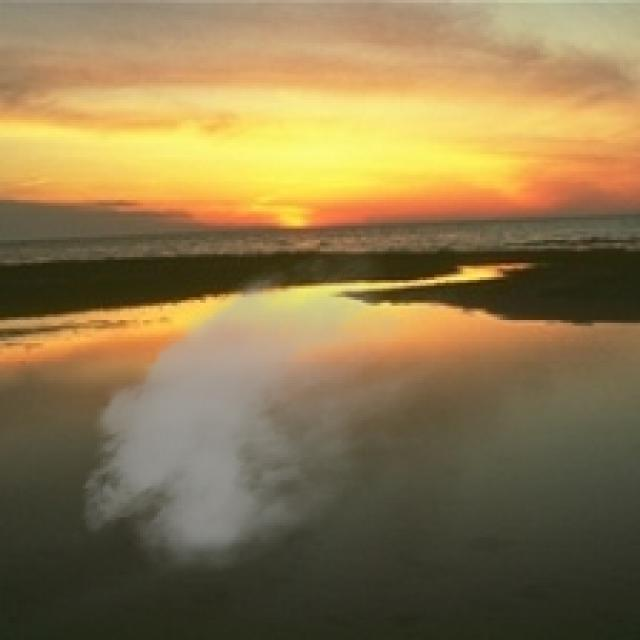smoke: (69, 237, 457, 589)
